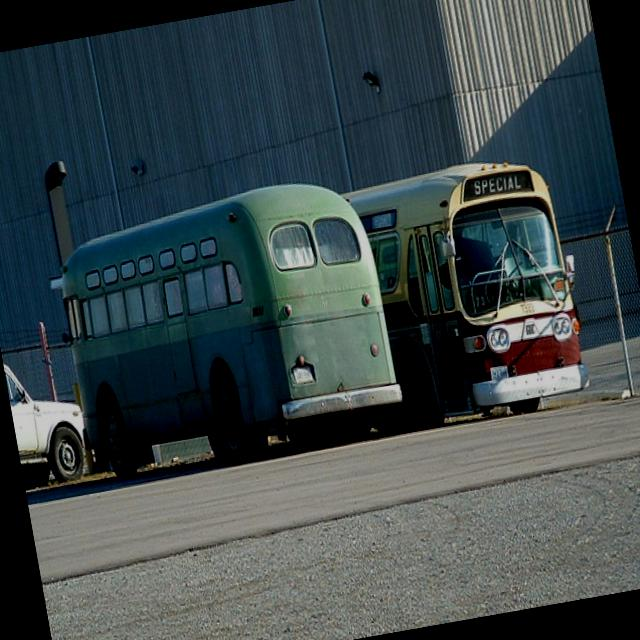Vehicle: (46, 168, 406, 484), (338, 146, 601, 440), (1, 343, 100, 502)
